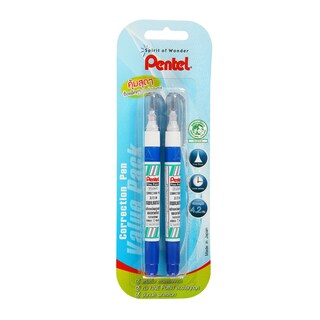Correction_fluid: (137, 92, 167, 278), (162, 89, 186, 277)
